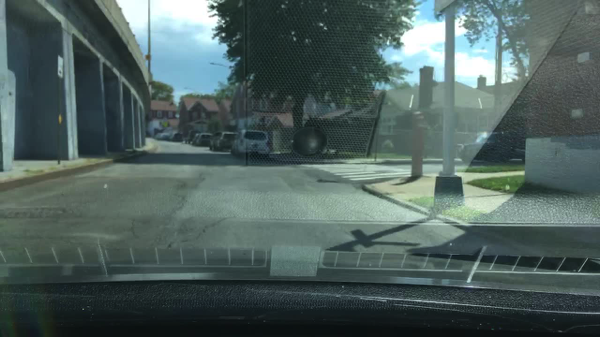car: (460, 129, 527, 169), (229, 130, 272, 157), (209, 132, 239, 151), (197, 133, 212, 147), (182, 131, 195, 144), (170, 133, 183, 143), (155, 132, 169, 140), (192, 133, 199, 145)
traffic sign: (57, 55, 64, 79), (58, 114, 63, 124), (162, 122, 168, 128)
